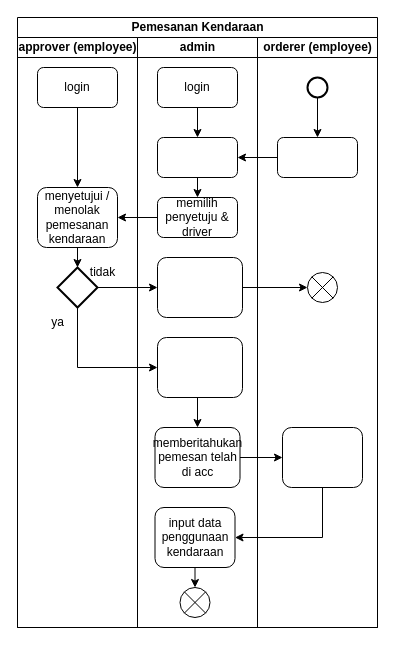
This 395x645 diagram has some shape labels left out. The shapes that lost their labels are listed below. From the top down, each one's centre as x and y in pixels, then its label:
point (197, 157): menginput pemesanan kendaraan
point (317, 157): mengajukan pemesanan kendaraan
point (199, 287): memberitahukan pemesan tidak di acc
point (199, 367): memilih driver
point (322, 457): melaporkan detail penggunaan kendaraan
